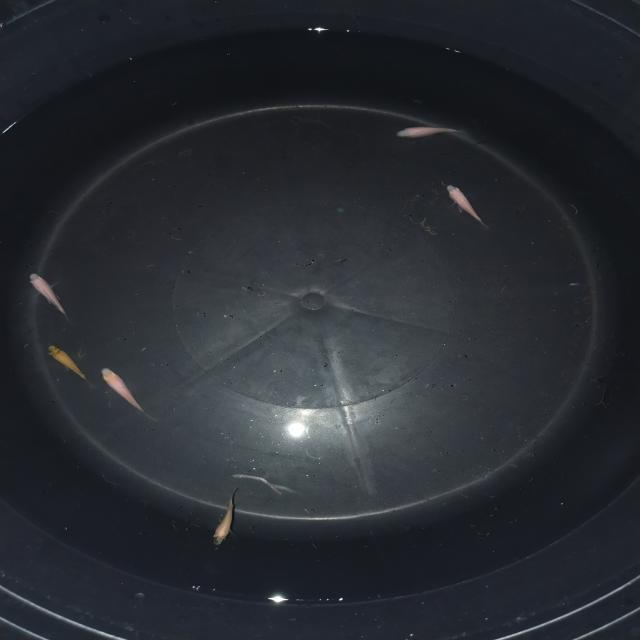nila: (27, 258, 77, 324), (100, 364, 157, 419), (44, 338, 86, 392), (446, 180, 493, 228), (211, 486, 245, 550), (392, 118, 468, 146)
